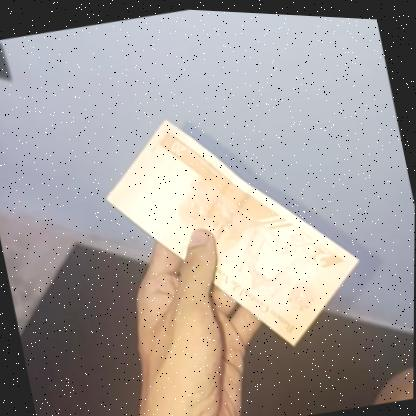twenty-back-vef: (90, 80, 375, 378)
